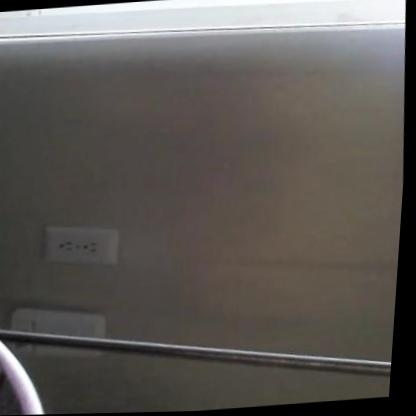OUTLET: (41, 222, 122, 268)
